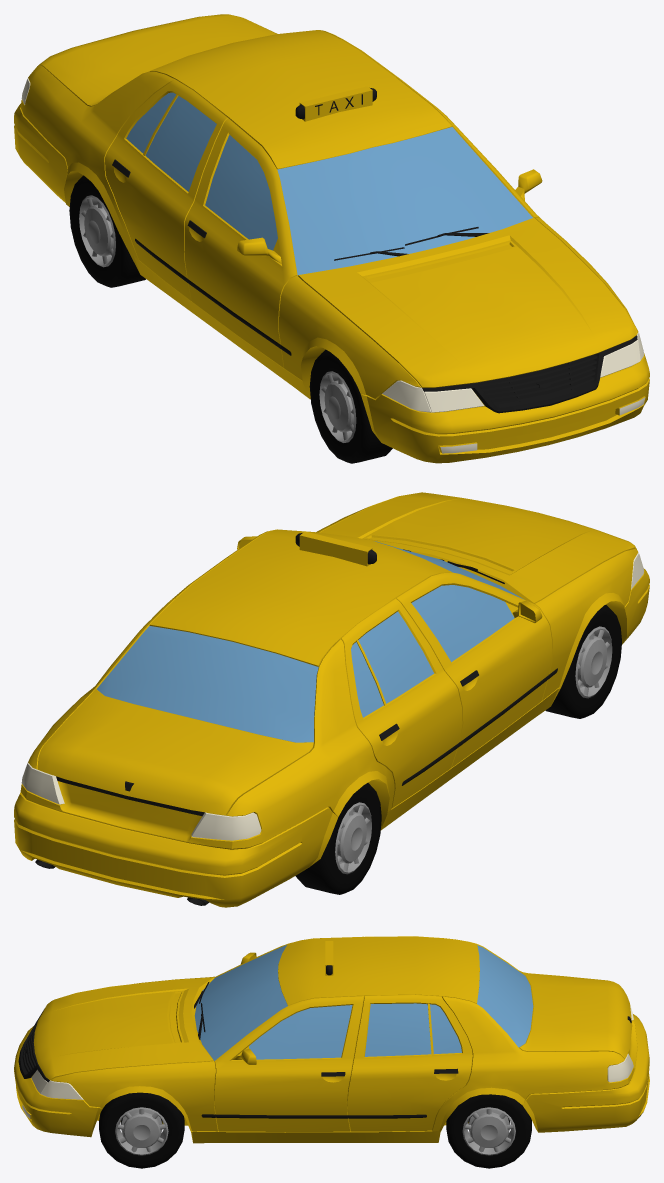
The model's file is Car_Taxi.fbx.
3 views of the same model, one above another, from view 1: azimuth 30°, elevation 25°; view 2: azimuth 150°, elevation 25°; view 3: azimuth 270°, elevation 25° (orthographic). The views are drawn at different scales.
Parts seen in each view (by area): view 1: Car_Taxi, Car_Taxi_Wheel_F_R, Car_Taxi_Wheel_R_R; view 2: Car_Taxi, Car_Taxi_Wheel_R_R, Car_Taxi_Wheel_F_R; view 3: Car_Taxi, Car_Taxi_Wheel_F_L, Car_Taxi_Wheel_R_L.
Boxes of the visible parts, box(x1,y1,x2,y2) form: Car_Taxi: box(14, 14, 649, 463); Car_Taxi_Wheel_F_R: box(309, 349, 392, 463); Car_Taxi_Wheel_R_R: box(69, 175, 145, 287); Car_Taxi: box(14, 492, 649, 907); Car_Taxi_Wheel_R_R: box(295, 783, 381, 894); Car_Taxi_Wheel_F_R: box(545, 605, 621, 718); Car_Taxi: box(14, 936, 649, 1143); Car_Taxi_Wheel_F_L: box(99, 1092, 184, 1168); Car_Taxi_Wheel_R_L: box(446, 1094, 531, 1168).
Bounding box in the file's own units: 48.05 × 36.52 × 122.
